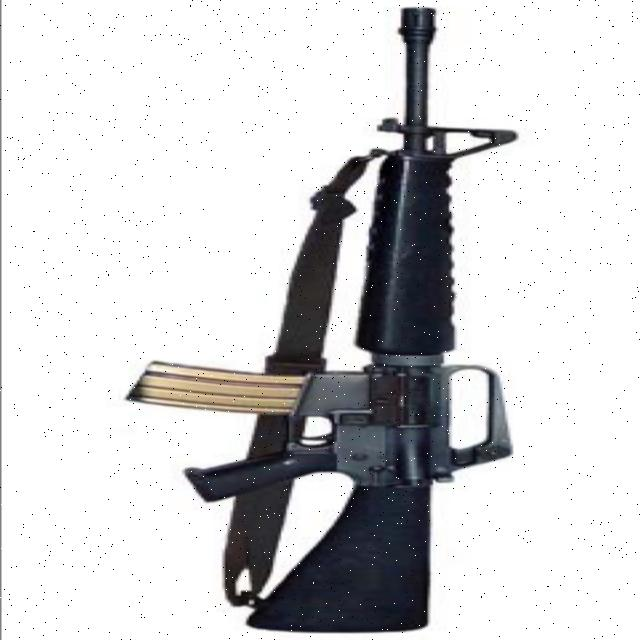Automaticrifle: (118, 8, 526, 640)
